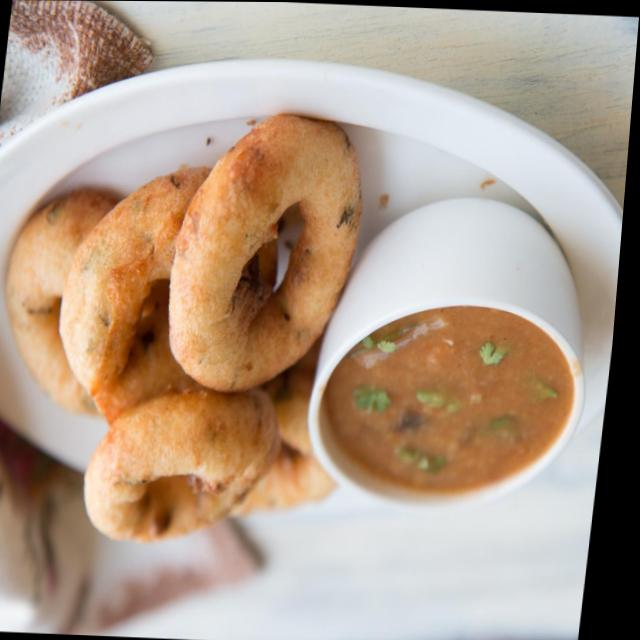SAMBAR: (324, 303, 571, 492)
VADA: (0, 116, 360, 545)
